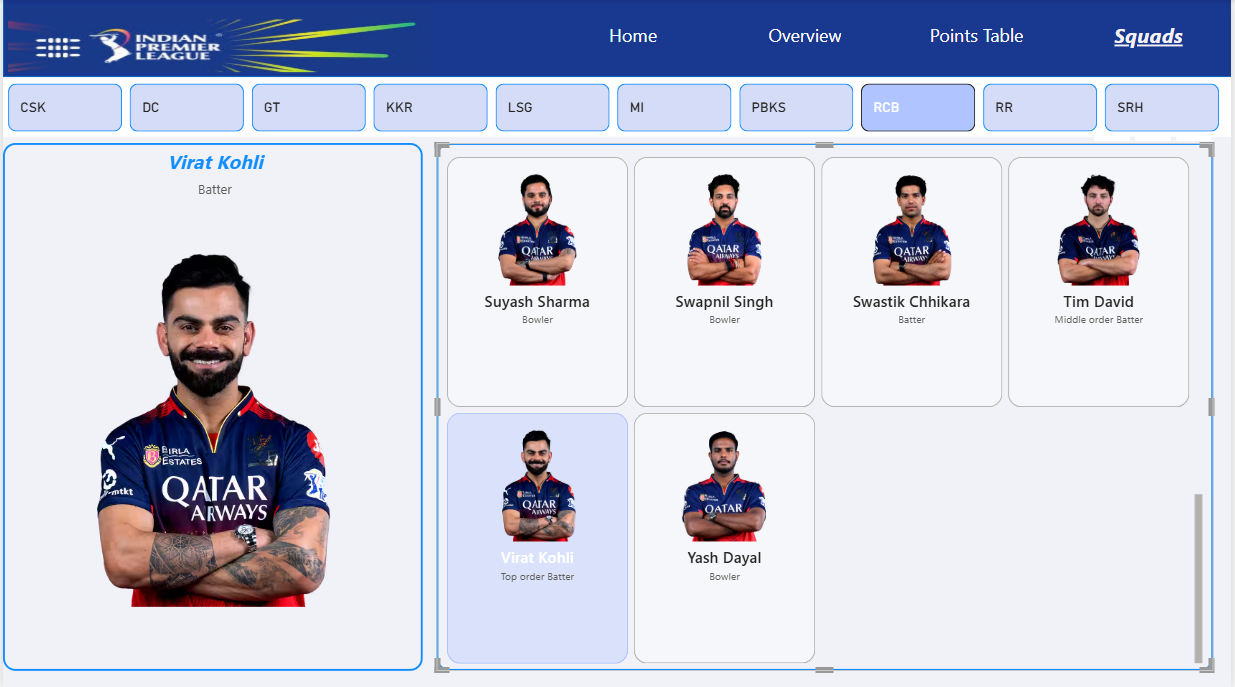

This screenshot's page, from the dashboard's own definition file:
{"tool":"powerbi","page":{"name":"Squads","canvas":[1280,720],"ordinal":3},"visuals":[{"type":"shape","box":[0,0,2000.6,81.3],"z":0},{"type":"image","box":[0,1.6,451.7,79.7],"z":1000},{"type":"pageNavigator","box":[572.1,14.1,708,46.9],"z":2000},{"type":"advancedSlicerVisual","fields":{"Values":["Players.PlayerName"]},"box":[451.7,150,809.6,550.2],"z":3000},{"type":"advancedSlicerVisual","fields":{"Values":["Players.Team_SN"]},"box":[0,82.8,1280,61],"z":4000},{"type":"cardVisual","fields":{"Data":["Min(Players.PlayerIMG)"]},"box":[0,150,437.6,550.2],"z":5000}]}

Visuals, with their boxes on the page's 1280x720 design canvas (x1, y1, x2, y2). These are canvas units, not pixel positions in the 1235x687 screenshot, which may show the page scaled, cropped or inside an application window:
shape: Rect(0, 0, 2001, 81)
image: Rect(0, 2, 452, 81)
pageNavigator: Rect(572, 14, 1280, 61)
advancedSlicerVisual - Players.PlayerName: Rect(452, 150, 1261, 700)
advancedSlicerVisual - Players.Team_SN: Rect(0, 83, 1280, 144)
cardVisual - Min(Players.PlayerIMG): Rect(0, 150, 438, 700)
